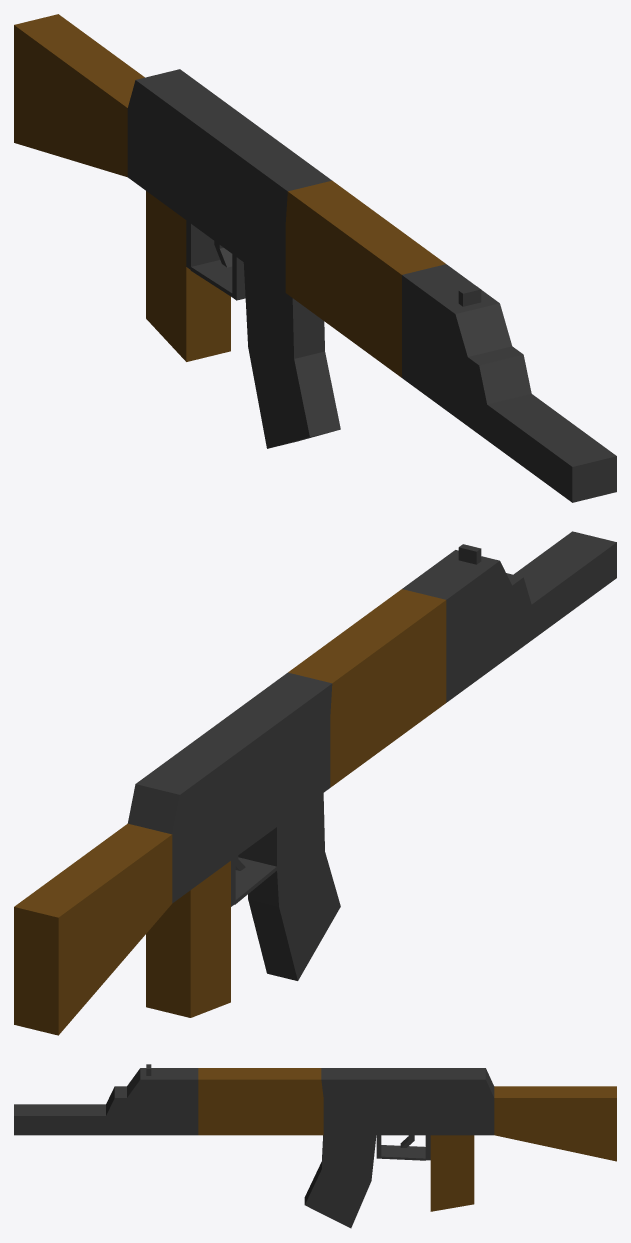
The model's file is karabin.fbx.
The picture shows the model from 3 angles, top to bottom: view 1: azimuth 30°, elevation 25°; view 2: azimuth 150°, elevation 25°; view 3: azimuth 270°, elevation 25°; orthographic projection. The views are drawn at different scales.
Visible parts, largest first — view 1: Cube; view 2: Cube; view 3: Cube.
Part boxes in pixels (box(x1,y1,x2,y2)): Cube: box(14, 14, 616, 502); Cube: box(14, 531, 616, 1035); Cube: box(14, 1064, 616, 1228).
Bounding box in the file's own units: 90.38 × 567 × 1964.
